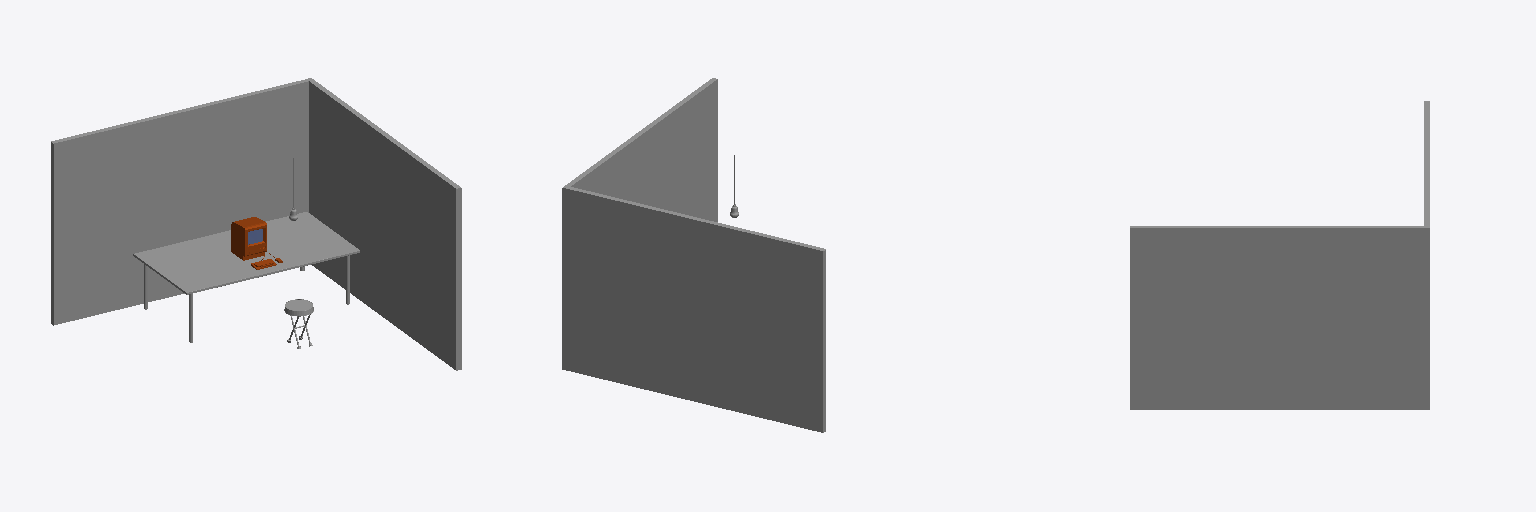
3 renders of one model, left to right at view 1: azimuth 30°, elevation 25°; view 2: azimuth 150°, elevation 25°; view 3: azimuth 270°, elevation 25°, orthographic.
Visible parts, largest first — view 1: mur, Table, computer_1, tabouret; view 2: mur; view 3: mur.
Part boxes in pixels (bbox=[...]): mur: bbox=[51, 78, 461, 370]; Table: bbox=[133, 212, 359, 342]; computer_1: bbox=[231, 217, 282, 269]; tabouret: bbox=[284, 299, 313, 348]; mur: bbox=[562, 78, 825, 432]; mur: bbox=[1130, 101, 1429, 409].
Bounding box in the file's own units: 3 × 2.01 × 3.